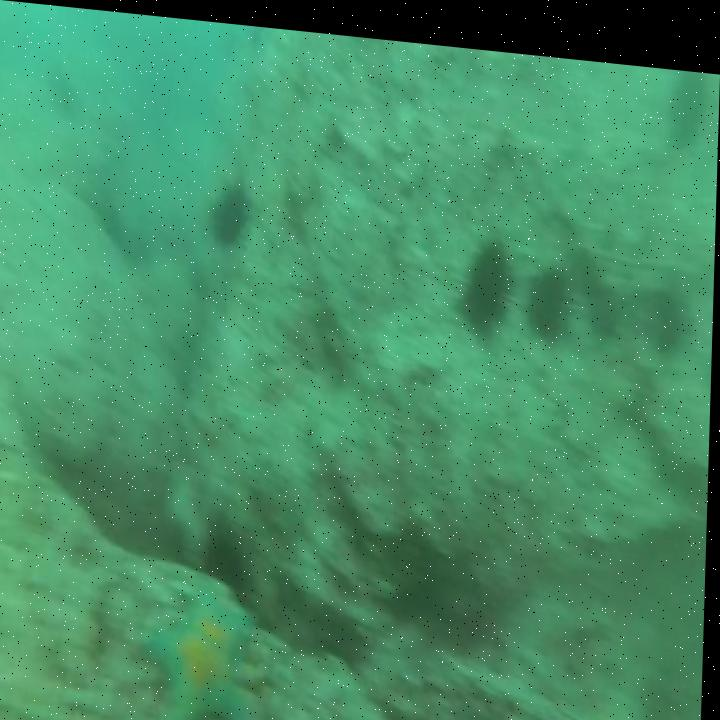echinus: (454, 215, 519, 341), (524, 248, 578, 337), (639, 264, 694, 345), (662, 54, 715, 138), (209, 170, 256, 247), (44, 61, 83, 122), (437, 707, 499, 720)
starfish: (146, 567, 264, 720)
